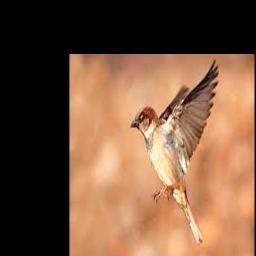Sparrow: (129, 58, 218, 244)
